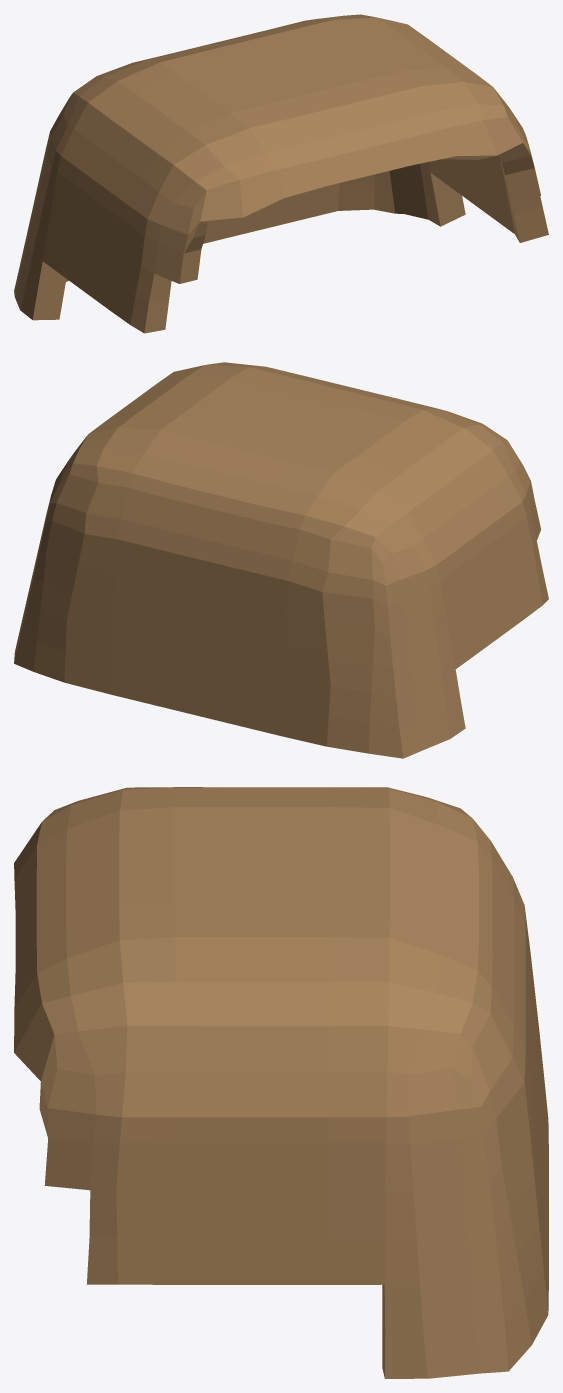
Rendered from hair-short-brown.glb.
The picture shows the model from 3 angles, top to bottom: view 1: azimuth 30°, elevation 25°; view 2: azimuth 150°, elevation 25°; view 3: azimuth 270°, elevation 25°; orthographic projection. The views are drawn at different scales.
Visible parts, largest first — view 1: hair_shell; view 2: hair_shell; view 3: hair_shell.
Part boxes in pixels (x1=…): hair_shell: x1=14, y1=14, x2=548, y2=333; hair_shell: x1=14, y1=362, x2=548, y2=758; hair_shell: x1=14, y1=787, x2=548, y2=1378.
Bounding box in the file's own units: 0.458 × 0.2396 × 0.3205.
